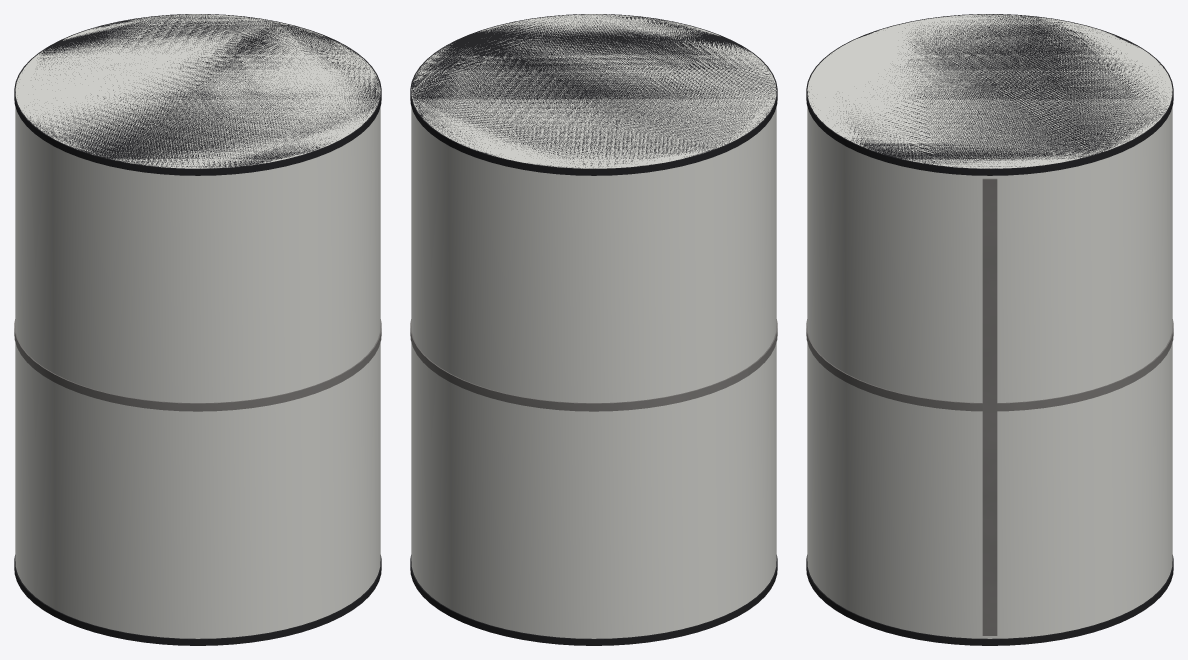
Rendered from tank13_tank_length_series_s_half.glb.
The picture shows the model from 3 angles, left to right: view 1: azimuth 30°, elevation 25°; view 2: azimuth 150°, elevation 25°; view 3: azimuth 270°, elevation 25°; orthographic projection.
Parts seen in each view (by area): view 1: tank, stack_flanges, ring_frames; view 2: tank, stack_flanges, ring_frames; view 3: tank, stack_flanges, feedline, ring_frames.
Boxes of the visible parts, bbox=[...] form: tank: bbox=[15, 14, 380, 638]; stack_flanges: bbox=[14, 14, 381, 645]; ring_frames: bbox=[14, 319, 381, 411]; tank: bbox=[411, 14, 776, 638]; stack_flanges: bbox=[410, 14, 777, 645]; ring_frames: bbox=[410, 319, 777, 411]; tank: bbox=[807, 14, 1172, 638]; stack_flanges: bbox=[806, 14, 1173, 645]; feedline: bbox=[982, 178, 997, 635]; ring_frames: bbox=[806, 319, 1173, 411].
Size of the model in its own units: 1.26 by 1.8 by 1.26.
3 materials, 1 textured.
